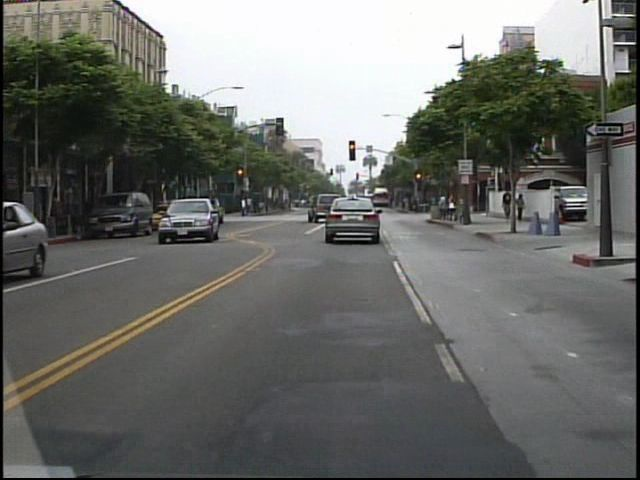person: (436, 189, 455, 223), (500, 186, 515, 226), (515, 189, 529, 225), (240, 193, 250, 219)
